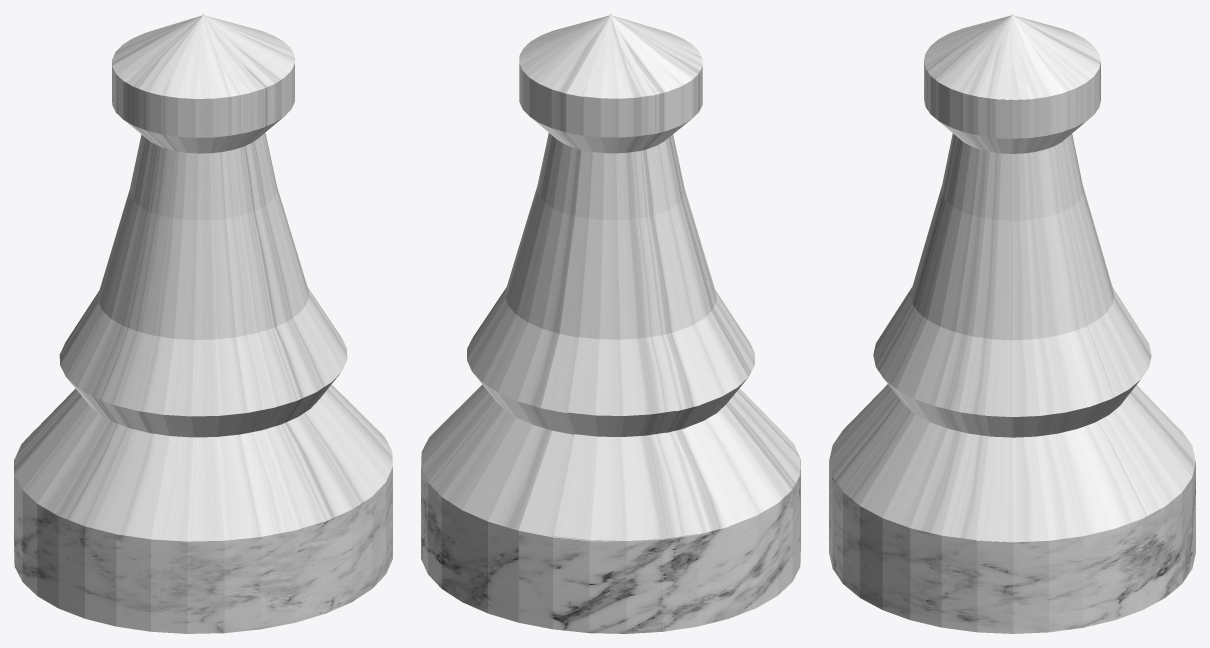
Rendered from turn.obj.
The picture shows the model from 3 angles, left to right: view 1: azimuth 30°, elevation 25°; view 2: azimuth 150°, elevation 25°; view 3: azimuth 270°, elevation 25°; orthographic projection.
Parts seen in each view (by area): view 1: Cylinder; view 2: Cylinder; view 3: Cylinder.
Part boxes in pixels (box(x1,y1,x2,y2)): Cylinder: box(14, 14, 392, 633); Cylinder: box(421, 14, 800, 633); Cylinder: box(829, 14, 1195, 633).
Size of the model in its own units: 2 by 3.11 by 1.92.
1 material, 1 textured.
